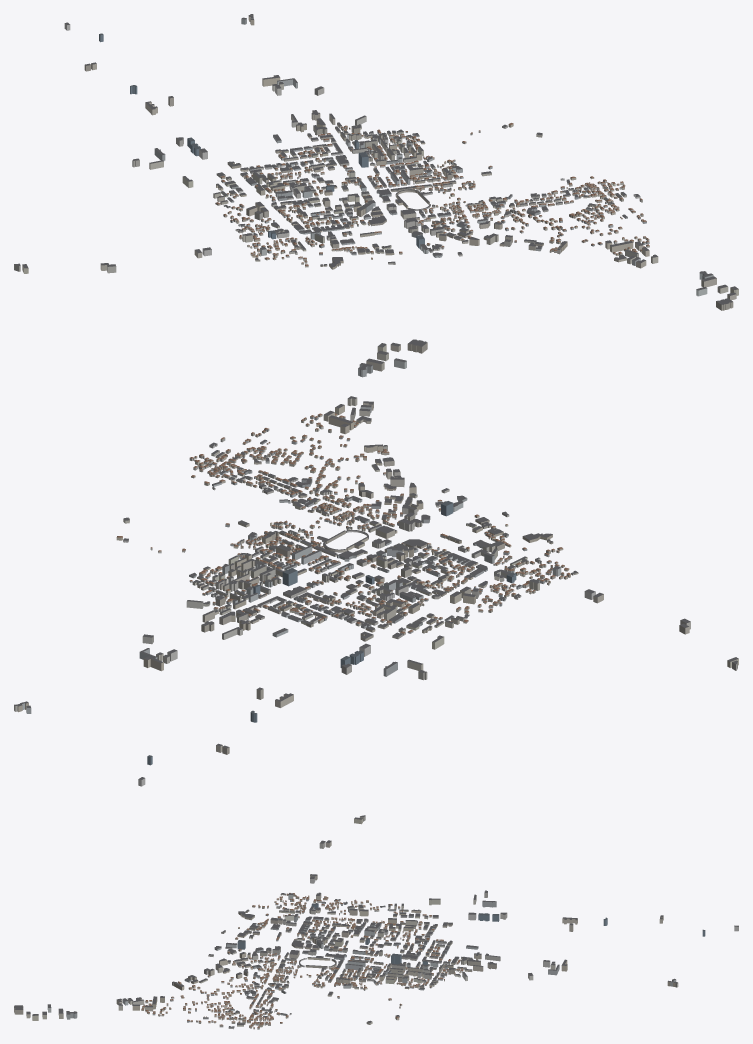
Rendered from buildings.glb.
3 renders of one model, top to bottom at view 1: azimuth 30°, elevation 25°; view 2: azimuth 150°, elevation 25°; view 3: azimuth 270°, elevation 25°, orthographic. The views are drawn at different scales.
Parts seen in each view (by area): view 1: chunk_0_-2, chunk_0_-1, chunk_-2_-2, chunk_-2_-1, chunk_-1_-1, chunk_-3_0, chunk_-2_0, chunk_2_1, chunk_1_1, chunk_-1_-2, chunk_-3_-1, chunk_0_1 (+11 smaller); view 2: chunk_0_-2, chunk_0_-1, chunk_-2_-2, chunk_-1_-1, chunk_-2_-1, chunk_0_-3, chunk_-2_0, chunk_-3_0, chunk_-1_-2, chunk_2_1, chunk_1_1, chunk_-3_-1 (+8 smaller); view 3: chunk_0_-2, chunk_0_-1, chunk_-2_-2, chunk_-1_-1, chunk_-2_-1, chunk_-3_0, chunk_-1_0, chunk_-2_0, chunk_-1_1, chunk_0_-3, chunk_0_1, chunk_2_1 (+7 smaller).
Boxes of the visible parts, box(x1,y1,x2,y2) form: chunk_0_-2: box(350, 136, 429, 168); chunk_0_-1: box(385, 157, 459, 191); chunk_-2_-2: box(245, 162, 316, 197); chunk_-2_-1: box(277, 185, 353, 219); chunk_-1_-1: box(327, 174, 418, 204); chunk_-3_0: box(253, 219, 336, 254); chunk_-2_0: box(307, 204, 370, 240); chunk_2_1: box(547, 181, 623, 211); chunk_1_1: box(490, 193, 562, 224); chunk_-1_-2: box(300, 152, 379, 184); chunk_-3_-1: box(227, 196, 301, 233); chunk_0_1: box(443, 205, 511, 238); chunk_0_-2: box(209, 553, 284, 595); chunk_0_-1: box(239, 530, 323, 570); chunk_-2_-2: box(329, 587, 415, 625); chunk_-1_-1: box(308, 542, 394, 587); chunk_-2_-1: box(362, 559, 454, 600); chunk_0_-3: box(186, 579, 266, 621); chunk_-2_0: box(396, 543, 489, 574); chunk_-3_0: box(457, 543, 546, 589); chunk_-1_-2: box(282, 568, 357, 611); chunk_2_1: box(198, 449, 276, 487); chunk_1_1: box(258, 473, 338, 507); chunk_-3_-1: box(420, 575, 514, 612); chunk_0_-2: box(376, 961, 428, 984); chunk_0_-1: box(328, 960, 381, 985); chunk_-2_-2: box(375, 920, 428, 944); chunk_-1_-1: box(325, 938, 379, 968); chunk_-2_-1: box(328, 921, 378, 944); chunk_-3_0: box(278, 901, 329, 924); chunk_-1_0: box(280, 939, 330, 967); chunk_-2_0: box(282, 919, 331, 944); chunk_-1_1: box(233, 940, 280, 964); chunk_0_-3: box(423, 958, 473, 984); chunk_0_1: box(230, 961, 281, 986); chunk_2_1: box(228, 1003, 280, 1025).
Size of the model in its own units: 2589 by 51.84 by 3746.
